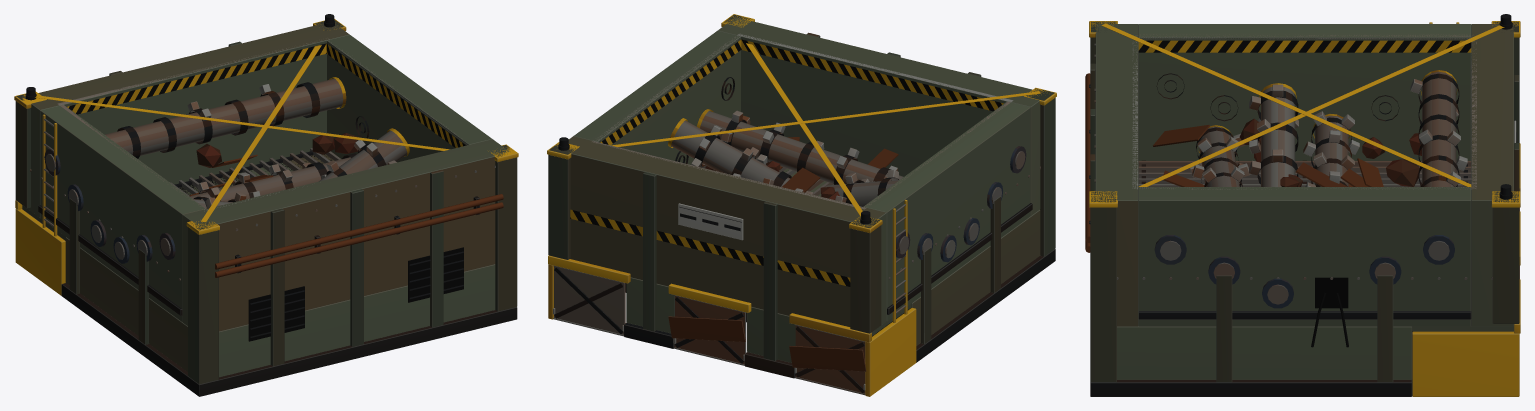
Rendered from recycler_broken.glb.
3 renders of one model, left to right at view 1: azimuth 30°, elevation 25°; view 2: azimuth 150°, elevation 25°; view 3: azimuth 270°, elevation 25°, orthographic. The views are drawn at different scales.
Visible parts, largest first — view 1: Body; view 2: Body; view 3: Body.
Part boxes in pixels (x1,y1,x2,y2): Body: (14, 14, 518, 396); Body: (547, 14, 1056, 396); Body: (1085, 14, 1520, 396).
Bounding box in the file's own units: 8.04 × 4.22 × 8.11.
